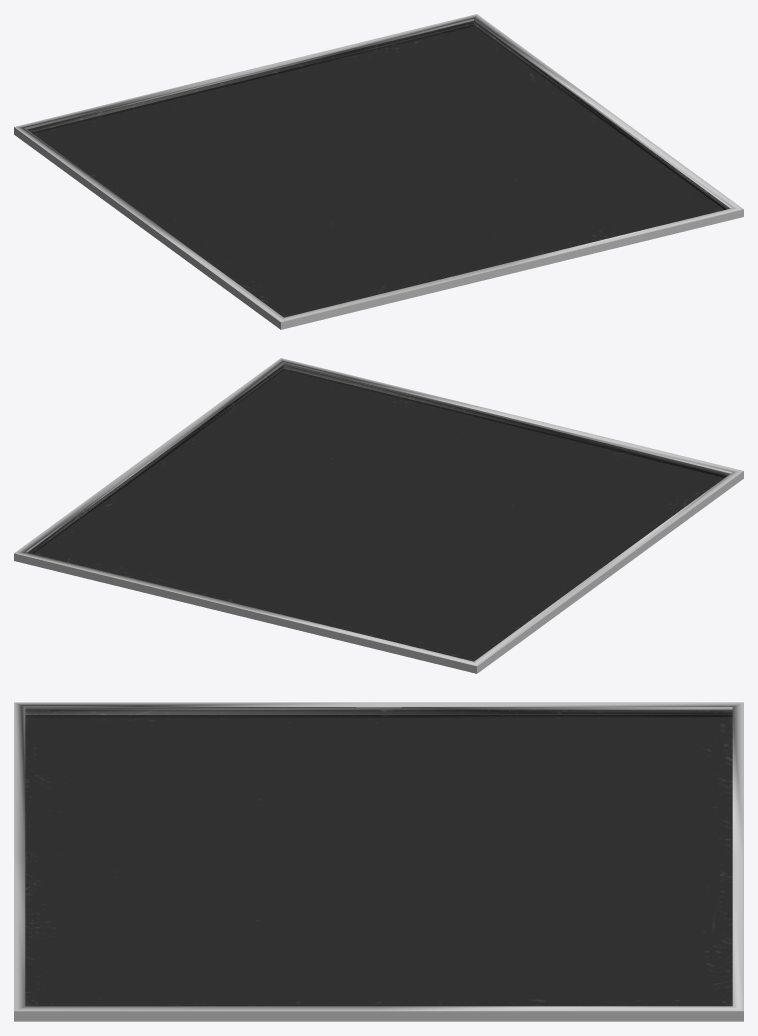
Rendered from glass_4x4.fbx.
3 renders of one model, top to bottom at view 1: azimuth 30°, elevation 25°; view 2: azimuth 150°, elevation 25°; view 3: azimuth 270°, elevation 25°, orthographic. The views are drawn at different scales.
Parts seen in each view (by area): view 1: glass_4x4; view 2: glass_4x4; view 3: glass_4x4.
Boxes of the visible parts, <box> form: glass_4x4: <box>14,14,743,329</box>; glass_4x4: <box>14,358,743,673</box>; glass_4x4: <box>14,702,743,1021</box>.
Size of the model in its own units: 160 by 2.5 by 160.
